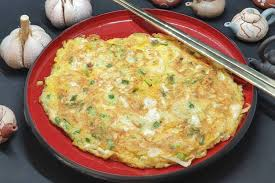Telur dadar: (39, 32, 244, 169)
